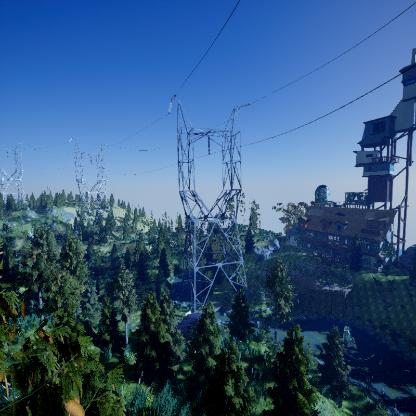tower: (167, 95, 254, 313), (68, 135, 111, 241)
